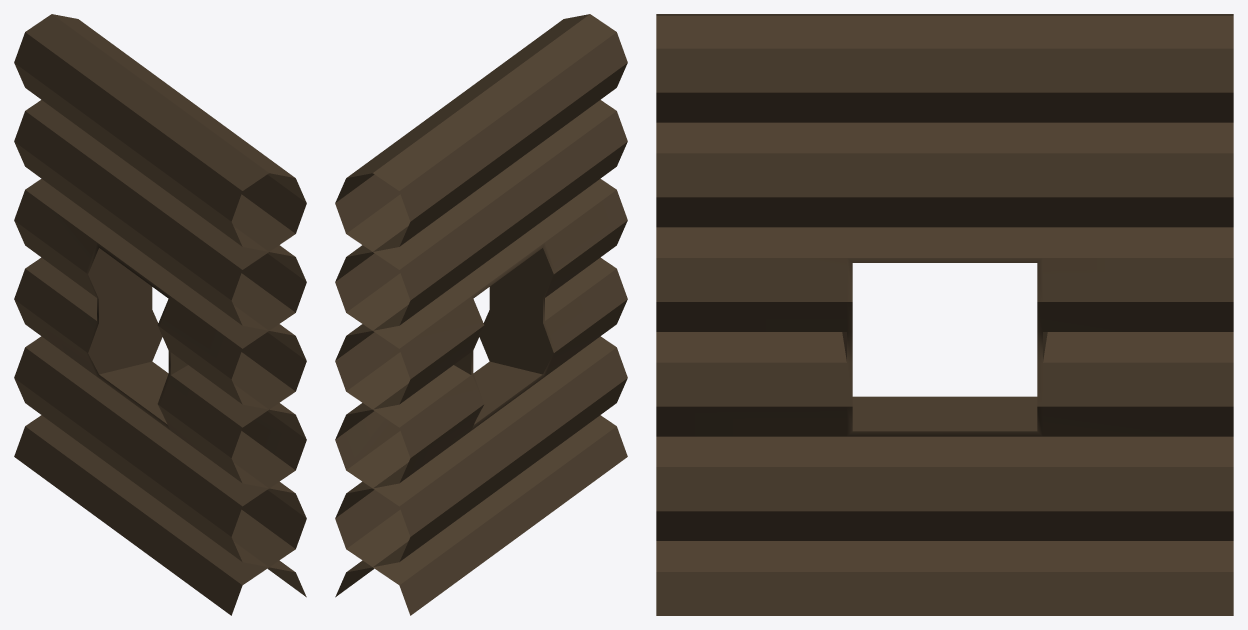
The model's file is Cabin_Small_Window.fbx.
3 renders of one model, left to right at view 1: azimuth 30°, elevation 25°; view 2: azimuth 150°, elevation 25°; view 3: azimuth 270°, elevation 25°, orthographic. The views are drawn at different scales.
Visible parts, largest first — view 1: Cabin_SmollWindow; view 2: Cabin_SmollWindow; view 3: Cabin_SmollWindow.
Boxes of the visible parts, left/top/right/bottom form: Cabin_SmollWindow: left=14, top=14, right=306, bottom=615; Cabin_SmollWindow: left=335, top=14, right=627, bottom=615; Cabin_SmollWindow: left=656, top=14, right=1233, bottom=615.
Size of the model in its own units: 0.2 by 1.1 by 1.
